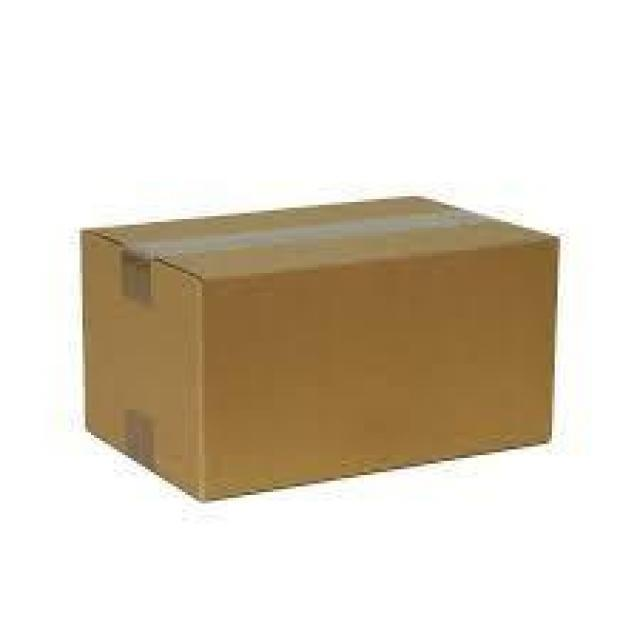box: (80, 193, 560, 498)
